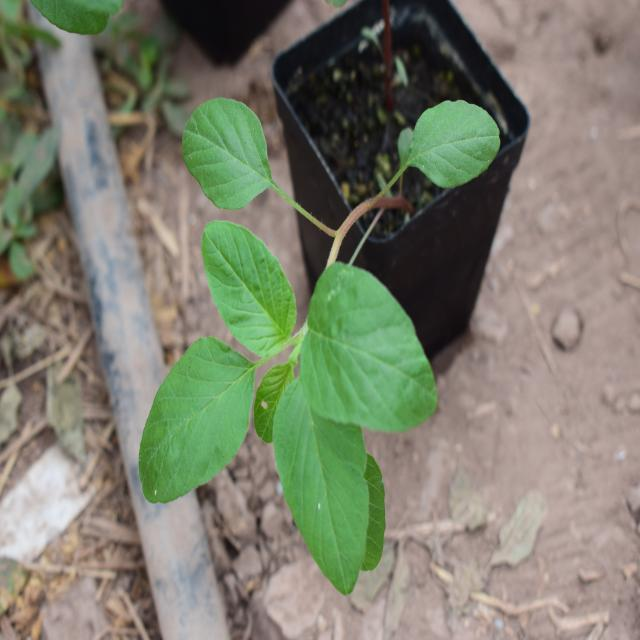pigweed: (150, 109, 439, 564)
